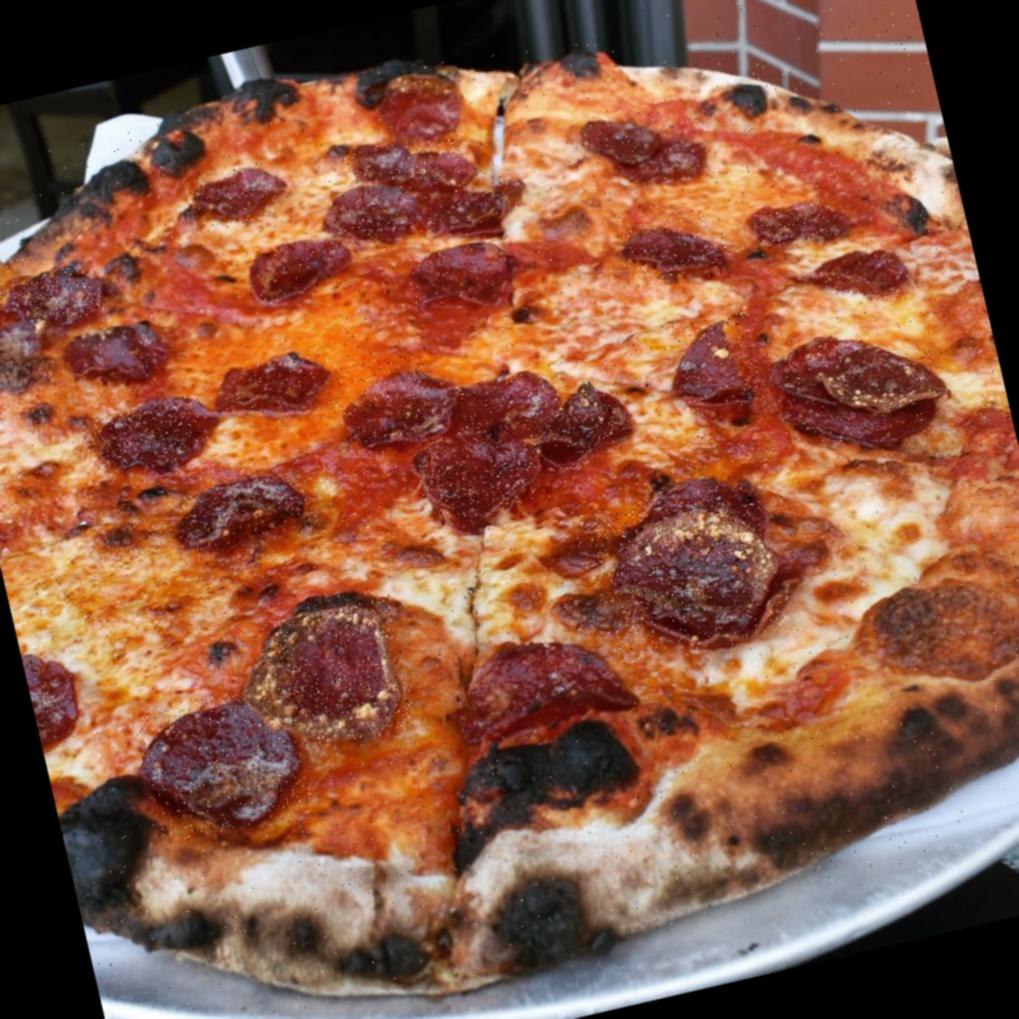Pepperoni: (582, 477, 788, 666), (131, 675, 316, 845), (253, 596, 418, 758), (442, 627, 635, 740), (767, 322, 931, 450), (567, 94, 712, 198), (413, 426, 547, 523), (324, 348, 442, 448), (179, 468, 315, 552), (666, 310, 765, 420), (341, 126, 467, 210), (447, 362, 576, 444), (787, 242, 924, 318), (80, 393, 209, 470), (410, 161, 525, 245), (221, 342, 341, 420), (620, 206, 730, 289), (404, 233, 521, 308), (369, 64, 470, 148), (0, 260, 106, 336), (183, 159, 281, 234), (251, 232, 349, 305), (330, 172, 424, 247), (66, 318, 164, 387), (540, 384, 626, 450), (26, 648, 82, 746), (750, 196, 836, 254), (0, 313, 42, 386)
Pizza: (0, 0, 1019, 1019)
